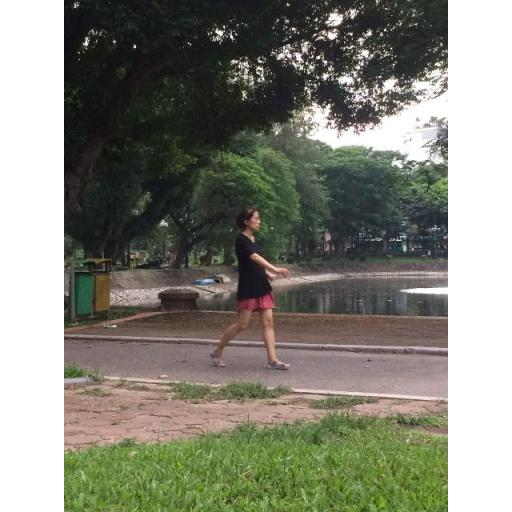Running: (199, 198, 294, 376)
